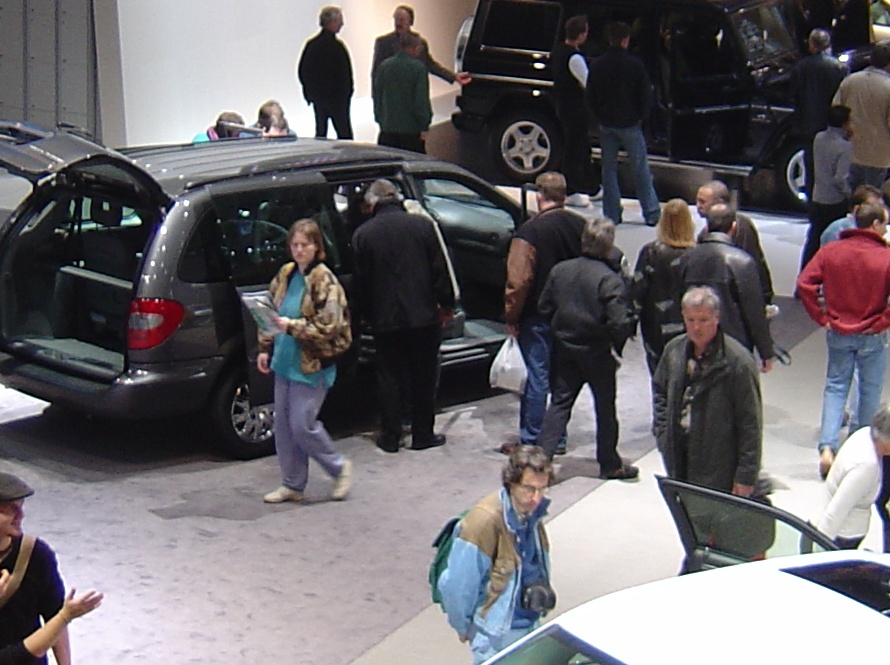person: (351, 176, 452, 451), (540, 207, 637, 485), (261, 216, 353, 507), (591, 22, 668, 228)
